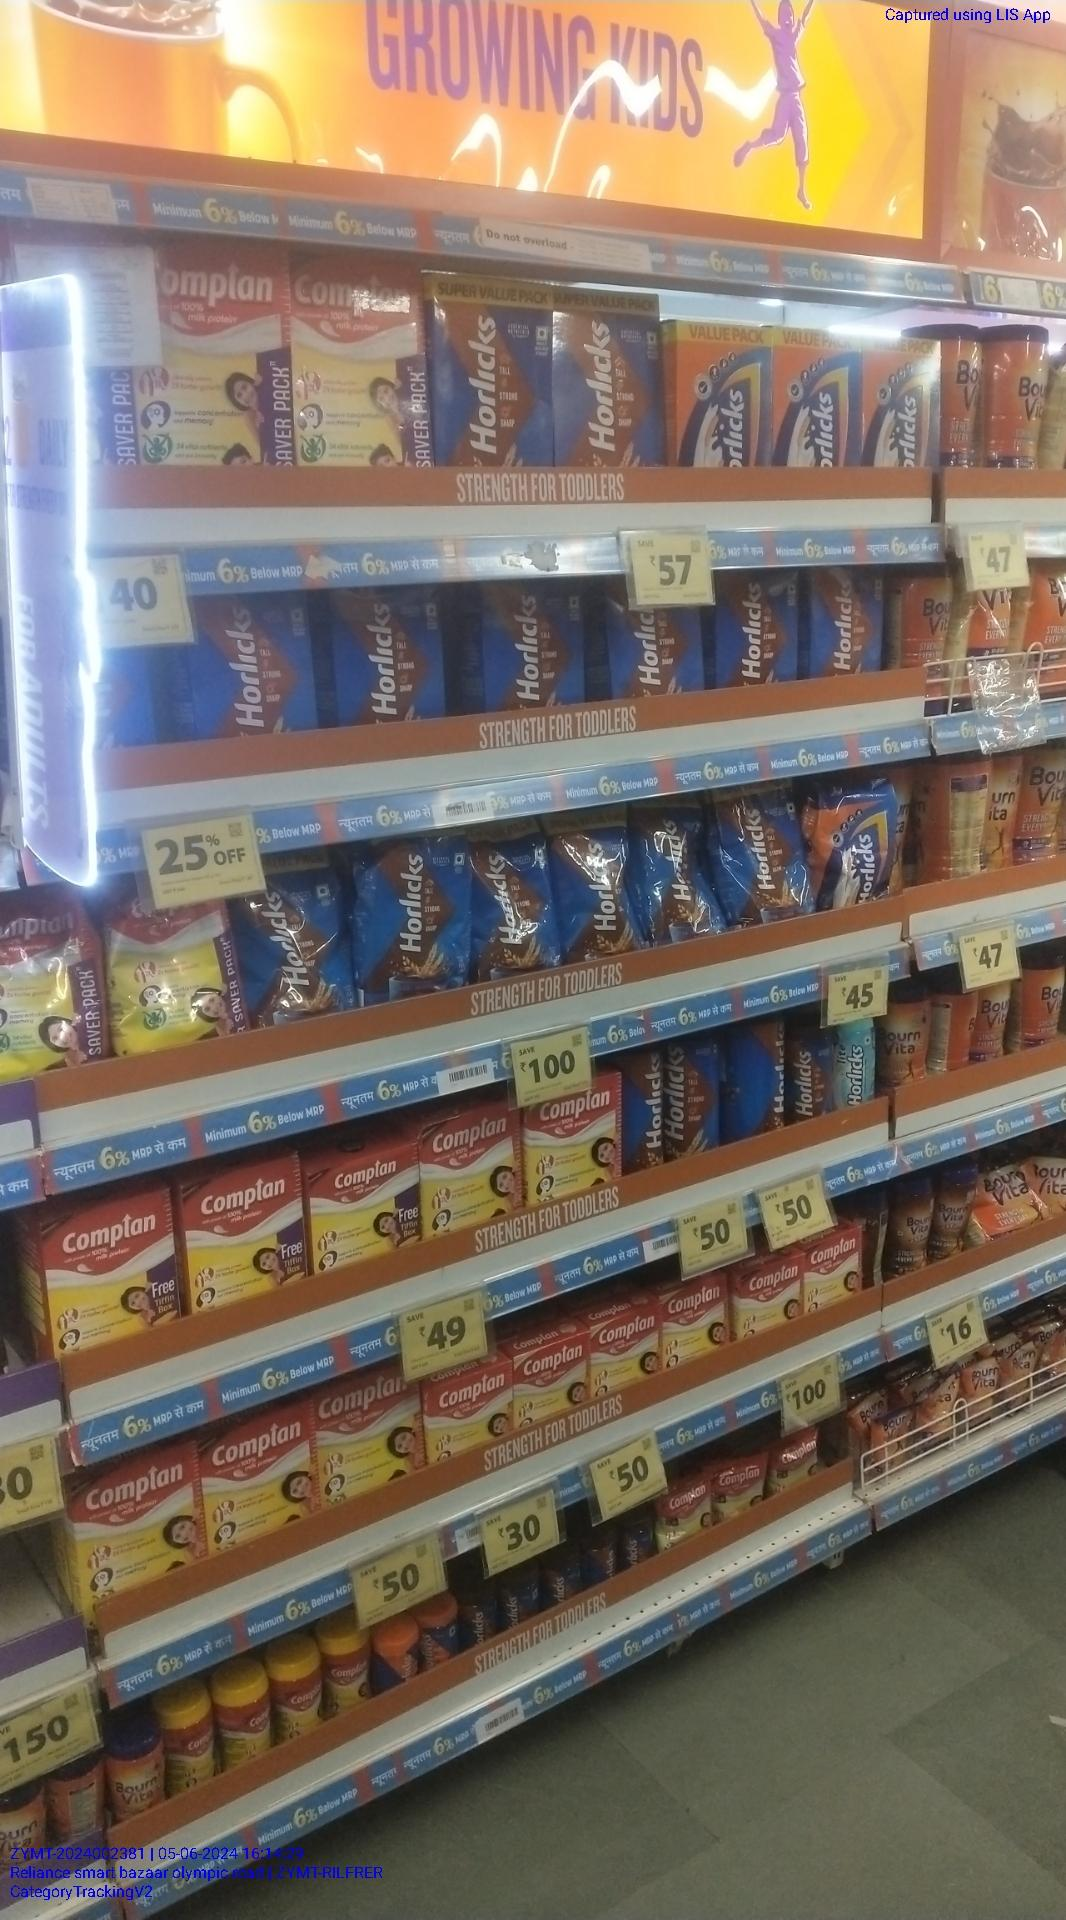HORLICKS_LITE_REGULAR_MALT_500_GM_JAR: (834, 1011, 884, 1118)
